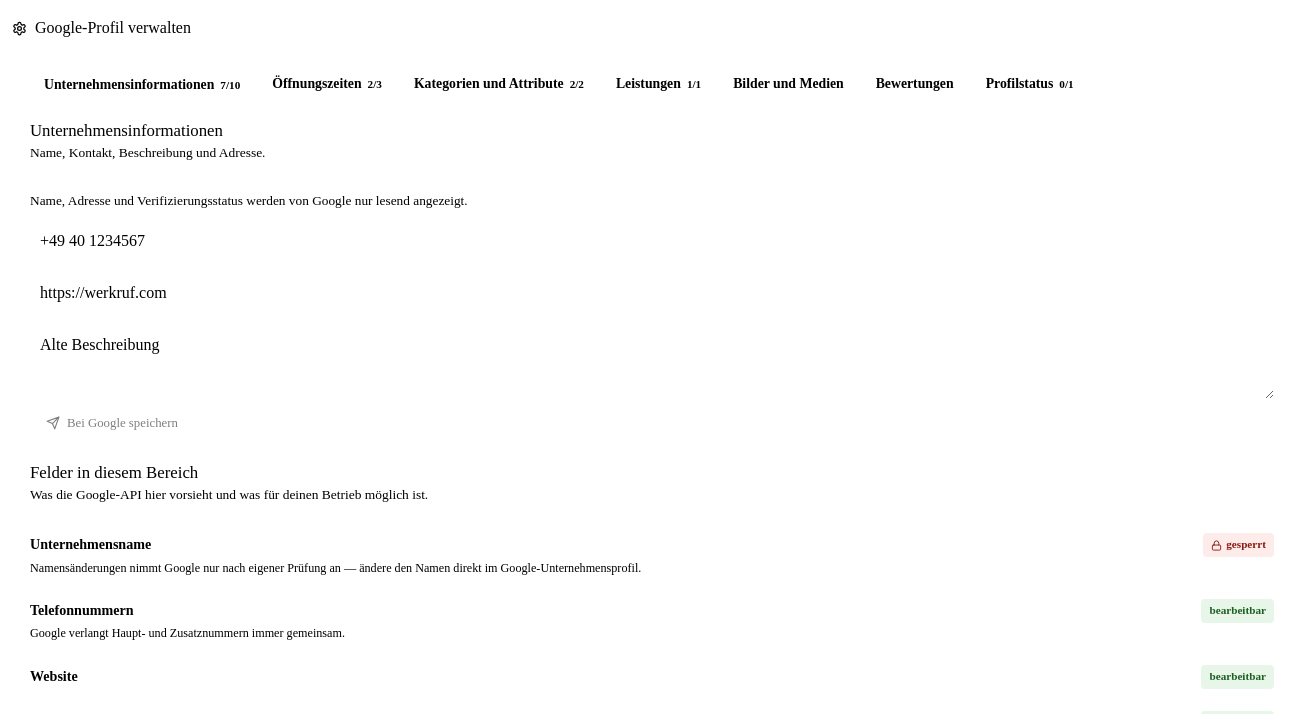
Test case: Zustandsdarstellung › nennt die tatsaechlich uebermittelten Felder aus der Serverantwort
(page scrolled)
Replace the text in the text box named "Unternehmensbeschreibung" with "X" at [652, 361], box [30, 323, 1274, 399]
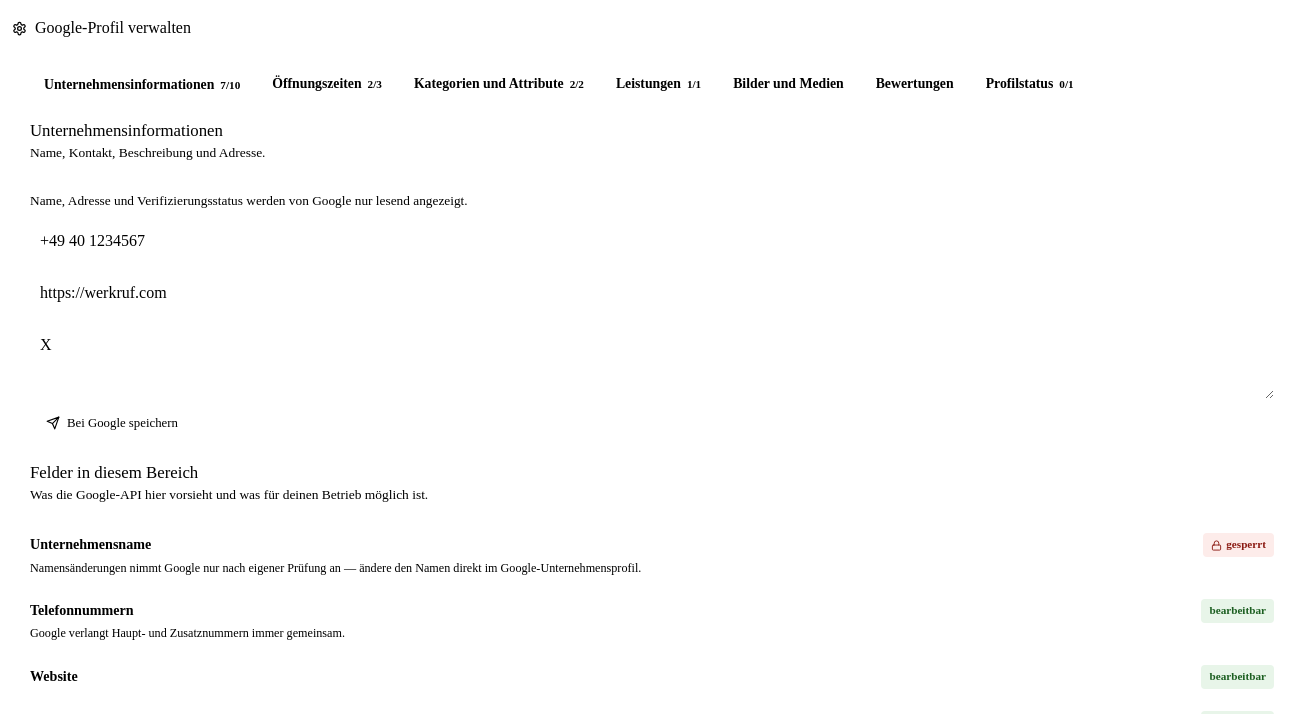
Click the button "Bei Google speichern" at [112, 423], box [30, 407, 194, 440]
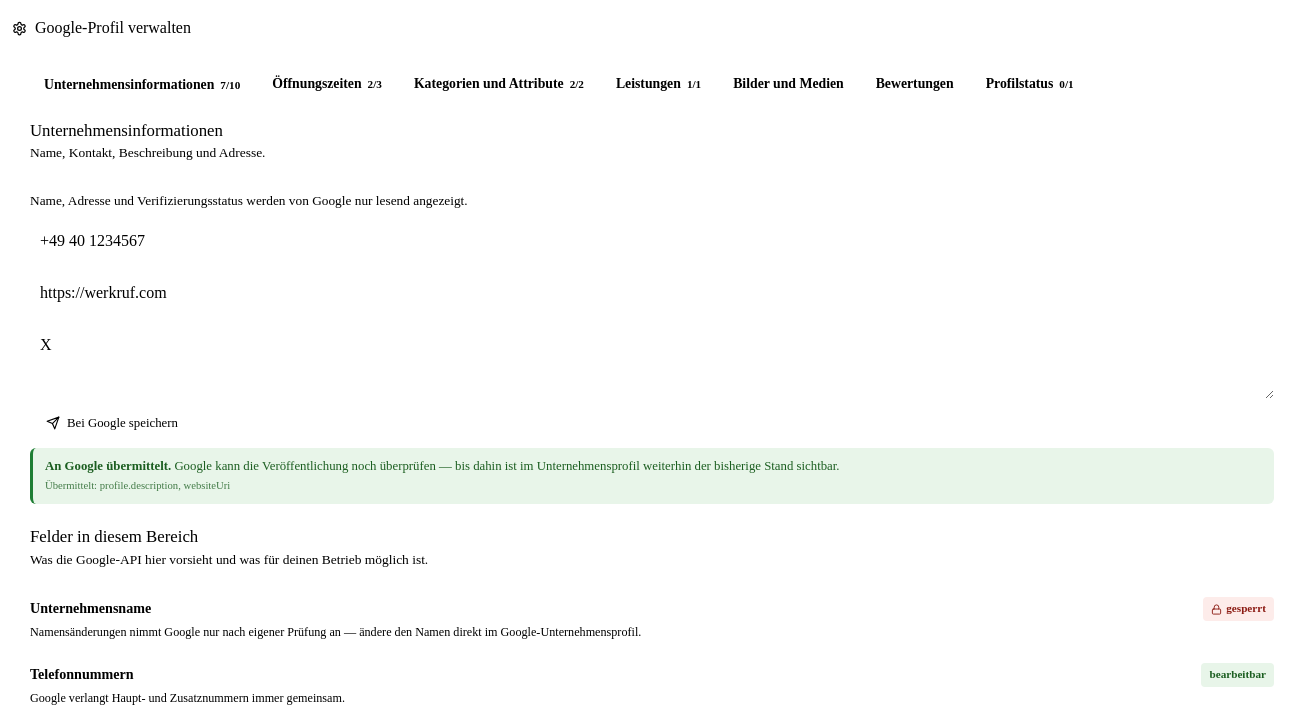
Expected: the text "Übermittelt: profile.description, websiteUri" is shown, [45, 480, 230, 491]
